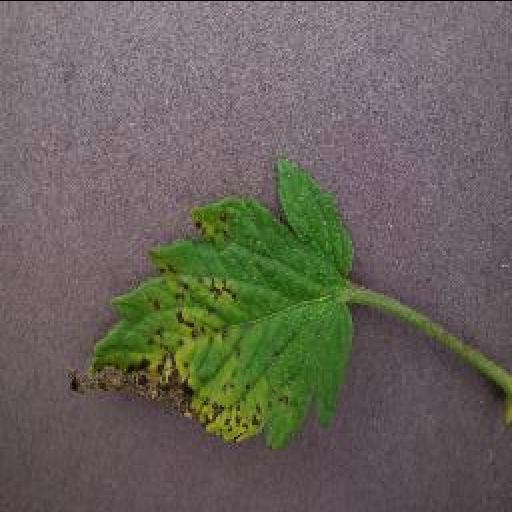disease_tomato: (65, 158, 363, 448)
